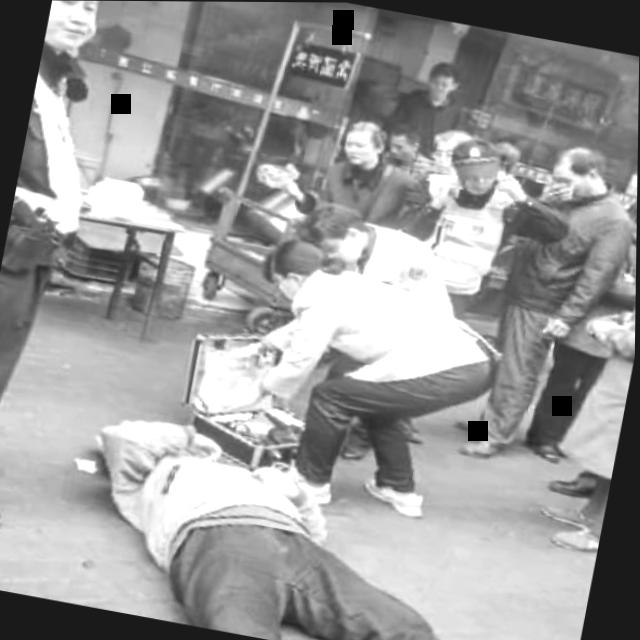Fall-Detected: (61, 382, 573, 640)
